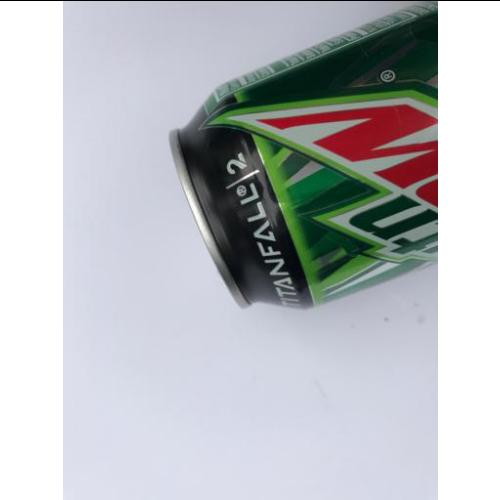metal: (179, 1, 437, 311)
